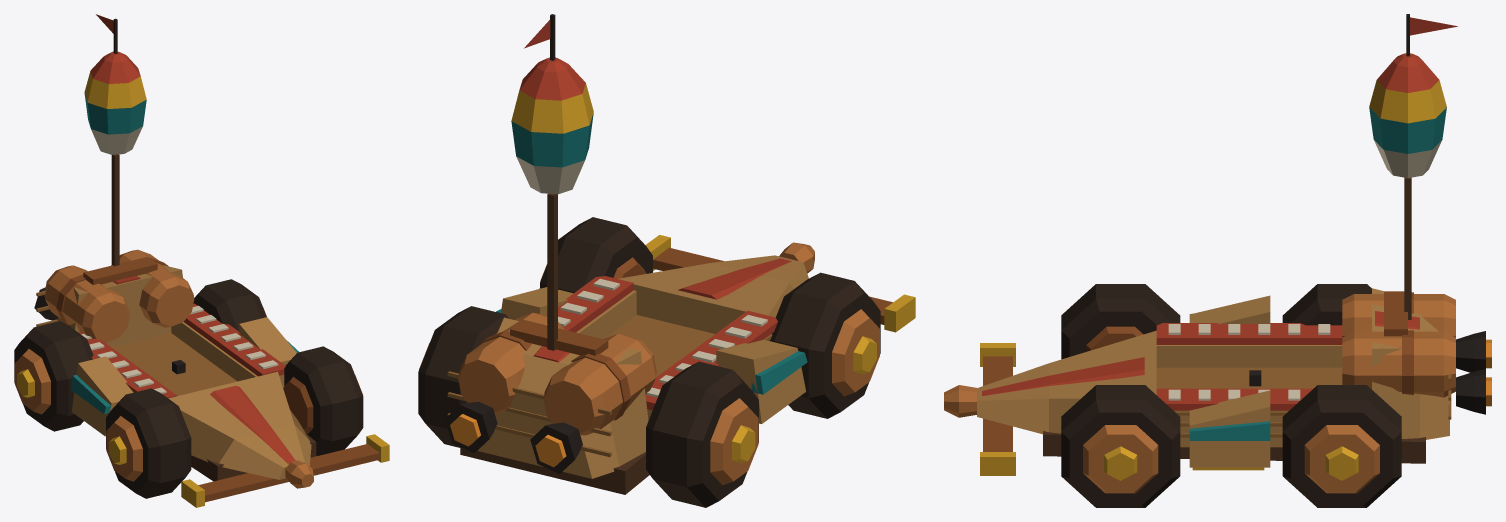
Rendered from kart-cappadocia.glb.
The picture shows the model from 3 angles, left to right: view 1: azimuth 30°, elevation 25°; view 2: azimuth 150°, elevation 25°; view 3: azimuth 270°, elevation 25°; orthographic projection. The views are drawn at different scales.
Visible parts, largest first — view 1: kart-cappadocia, wheel-front-right, wheel-front-left, wheel-back-right, wheel-back-left; view 2: kart-cappadocia, wheel-back-right, wheel-front-right, wheel-back-left, wheel-front-left; view 3: kart-cappadocia, wheel-front-left, wheel-back-left, wheel-front-right, wheel-back-right.
Part boxes in pixels (left/top/right/bottom): kart-cappadocia: left=34, top=14, right=389, bottom=507; wheel-front-right: left=106, top=388, right=191, bottom=498; wheel-front-left: left=283, top=346, right=363, bottom=455; wheel-back-right: left=14, top=321, right=93, bottom=431; wheel-back-left: left=193, top=279, right=266, bottom=331; kart-cappadocia: left=445, top=14, right=915, bottom=494; wheel-back-right: left=646, top=361, right=758, bottom=507; wheel-front-right: left=769, top=272, right=880, bottom=418; wheel-back-left: left=418, top=306, right=509, bottom=447; wheel-front-left: left=540, top=217, right=652, bottom=293; kart-cappadocia: left=944, top=14, right=1491, bottom=475; wheel-front-left: left=1061, top=385, right=1180, bottom=507; wheel-back-left: left=1282, top=385, right=1401, bottom=507; wheel-front-right: left=1061, top=284, right=1180, bottom=359; wheel-back-right: left=1282, top=284, right=1371, bottom=325.
Bounding box in the file's own units: 1.12 × 1.6 × 1.83.
